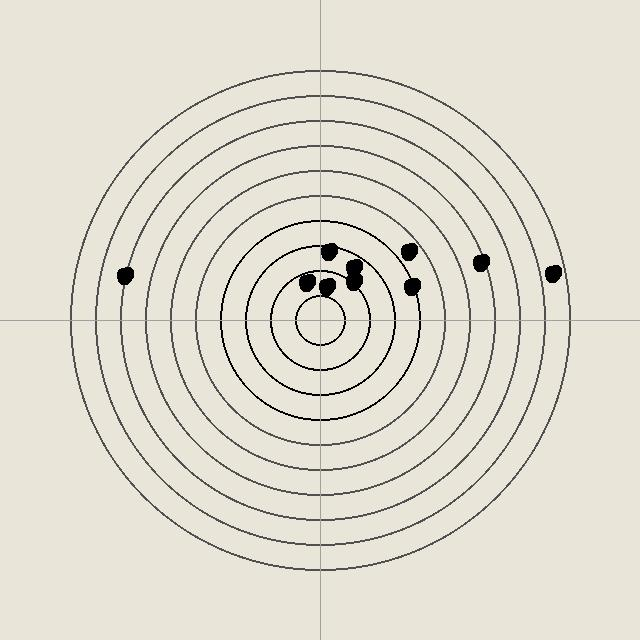horizontal_scatter: (343, 257, 363, 277), (470, 252, 490, 272), (316, 276, 336, 296), (296, 272, 316, 292), (401, 276, 421, 296), (343, 271, 363, 291), (114, 265, 134, 285), (542, 263, 562, 283), (318, 241, 338, 261), (398, 241, 418, 261)
